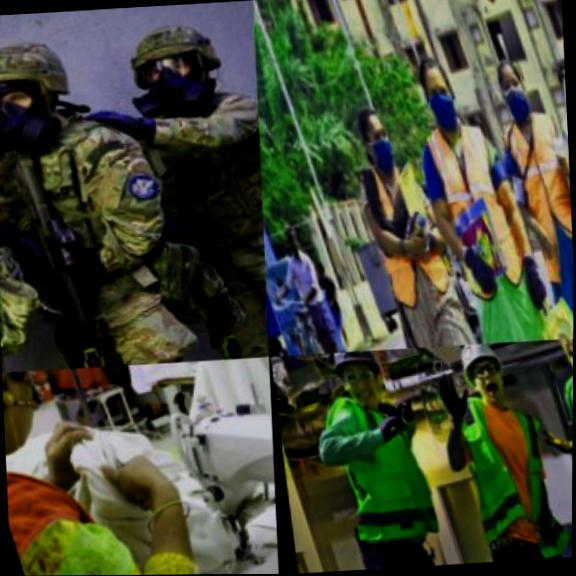safety_vest: (0, 110, 173, 308), (306, 377, 445, 568), (432, 377, 572, 565), (411, 116, 527, 307), (131, 82, 263, 237), (485, 102, 575, 279), (348, 162, 449, 306), (542, 357, 573, 512)
